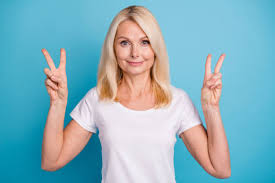peace_sign: (38, 42, 72, 101), (198, 51, 225, 110)
